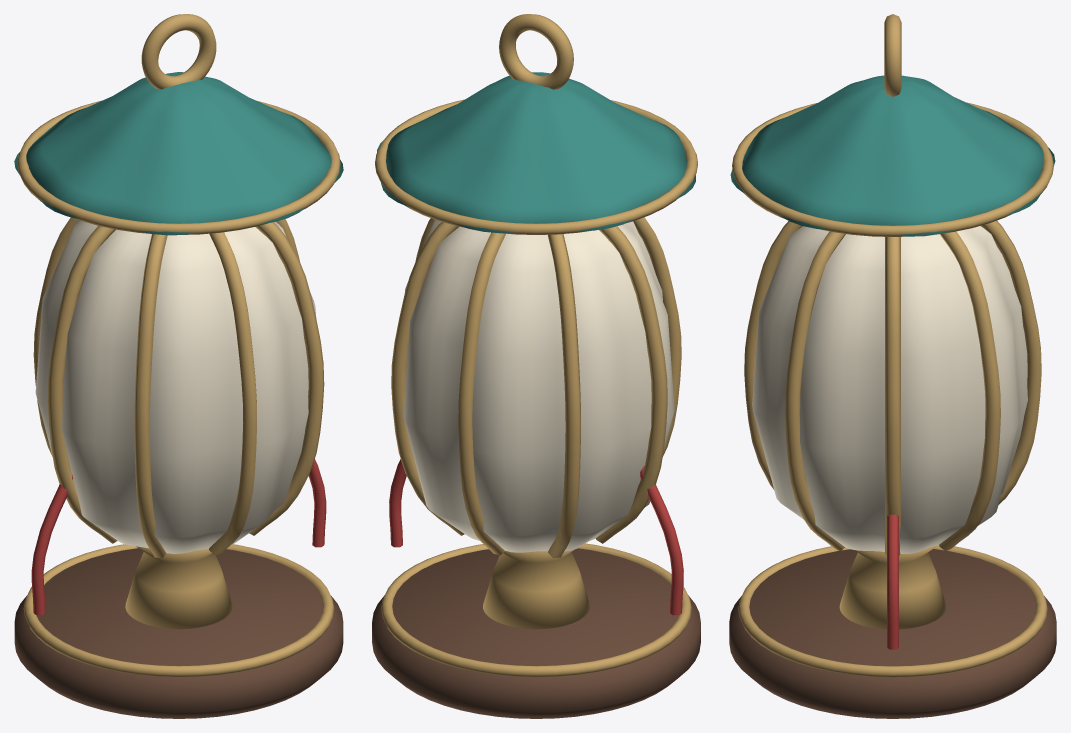
Rendered from river_lantern.glb.
The picture shows the model from 3 angles, left to right: view 1: azimuth 30°, elevation 25°; view 2: azimuth 150°, elevation 25°; view 3: azimuth 270°, elevation 25°; orthographic projection.
Parts seen in each view (by area): view 1: river_lantern_Porcelain warm ivory, river_lantern_Brushed champagne brass, river_lantern_Walnut carved edge, river_lantern_Glazed teal porcelain, river_lantern_Vermilion braided silk; view 2: river_lantern_Porcelain warm ivory, river_lantern_Brushed champagne brass, river_lantern_Walnut carved edge, river_lantern_Glazed teal porcelain, river_lantern_Vermilion braided silk; view 3: river_lantern_Porcelain warm ivory, river_lantern_Brushed champagne brass, river_lantern_Walnut carved edge, river_lantern_Glazed teal porcelain, river_lantern_Vermilion braided silk.
Boxes of the visible parts, box(x1,y1,x2,y2) form: river_lantern_Porcelain warm ivory: box(35, 220, 316, 553); river_lantern_Brushed champagne brass: box(17, 14, 340, 676); river_lantern_Walnut carved edge: box(14, 548, 343, 718); river_lantern_Glazed teal porcelain: box(14, 72, 343, 235); river_lantern_Vermilion braided silk: box(31, 459, 326, 615); river_lantern_Porcelain warm ivory: box(403, 219, 674, 552); river_lantern_Brushed champagne brass: box(375, 14, 697, 676); river_lantern_Walnut carved edge: box(372, 548, 700, 718); river_lantern_Glazed teal porcelain: box(377, 72, 695, 233); river_lantern_Vermilion braided silk: box(389, 459, 683, 615); river_lantern_Porcelain warm ivory: box(752, 226, 1027, 553); river_lantern_Brushed champagne brass: box(732, 14, 1053, 677); river_lantern_Walnut carved edge: box(729, 549, 1056, 718); river_lantern_Glazed teal porcelain: box(730, 75, 1055, 236); river_lantern_Vermilion braided silk: box(887, 514, 898, 649).
Size of the model in its own units: 1 by 2.11 by 0.98.
